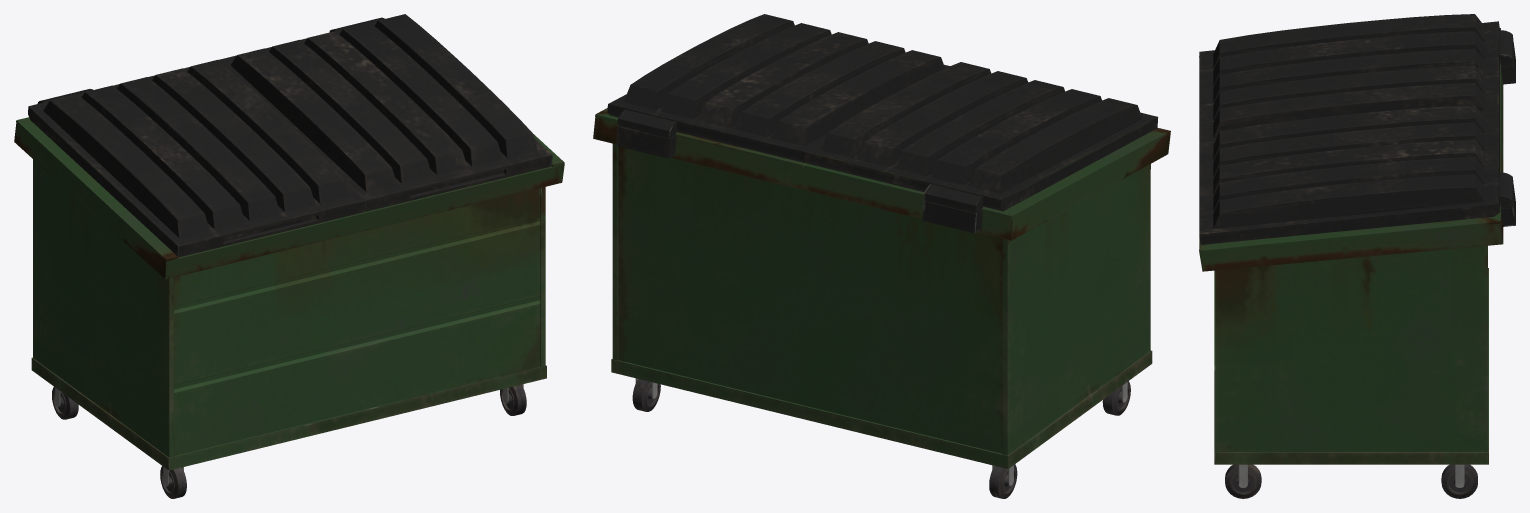
File: dumpster_4k.glb
3 renders of one model, left to right at view 1: azimuth 30°, elevation 25°; view 2: azimuth 150°, elevation 25°; view 3: azimuth 270°, elevation 25°, orthographic. The views are drawn at different scales.
Visible parts, largest first — view 1: Dumpster, DumpsterDoorL _Dumpster_MTL_0, DumpsterDoorR; view 2: Dumpster, DumpsterDoorL _Dumpster_MTL_0, DumpsterDoorR; view 3: Dumpster, DumpsterDoorR, DumpsterDoorL _Dumpster_MTL_0.
Boxes of the visible parts, x1,y1,x2,y2 form: Dumpster: [14, 17, 564, 498]; DumpsterDoorL _Dumpster_MTL_0: [28, 60, 365, 257]; DumpsterDoorR: [219, 14, 552, 211]; Dumpster: [593, 108, 1170, 498]; DumpsterDoorL _Dumpster_MTL_0: [804, 62, 1158, 211]; DumpsterDoorR: [607, 14, 949, 163]; Dumpster: [1199, 28, 1515, 498]; DumpsterDoorR: [1199, 105, 1499, 244]; DumpsterDoorL _Dumpster_MTL_0: [1199, 14, 1499, 142].
Size of the model in its own units: 1.86 by 1.4 by 1.28.
Materials: 1 (1 with a texture image).
